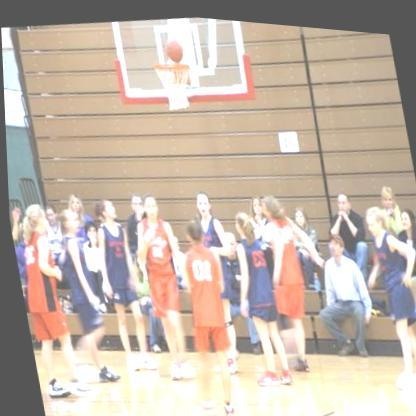basketball: (164, 31, 185, 60)
rim: (152, 57, 191, 71)
